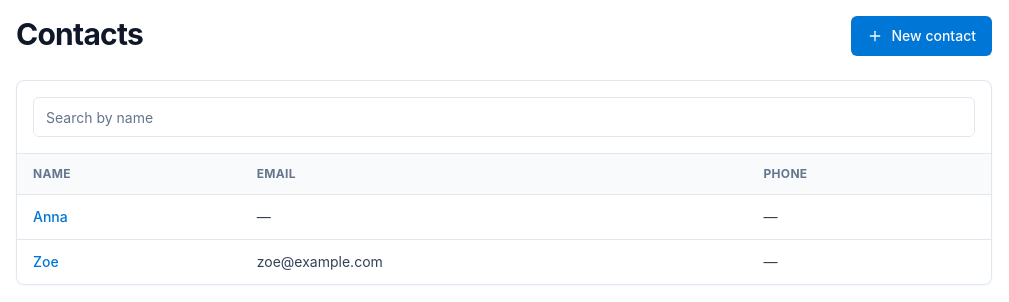
Test: ContactsList › filters by name case-insensitively as the user types
expect the link "Anna" is shown: met, box top-left (33, 208), bottom-right (68, 225)
Type "ZO" into the field with placeholder "Search by name".
click(504, 117); type("ZO")  # box top-left (33, 97), bottom-right (975, 137)
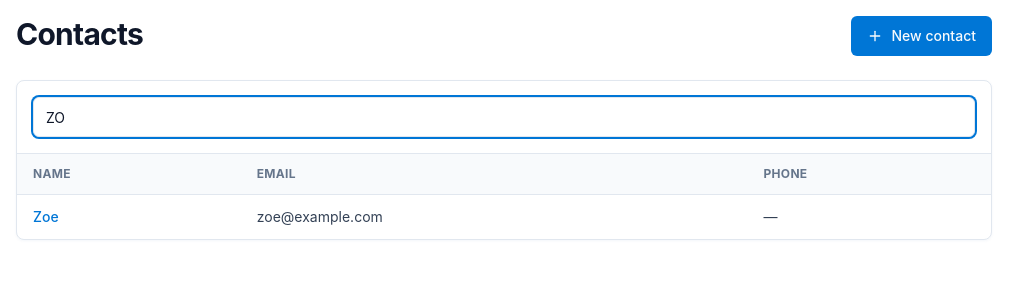
expect the link "Zoe" is shown: met, box top-left (33, 208), bottom-right (59, 225)
expect the link "Anna" is gone: met
